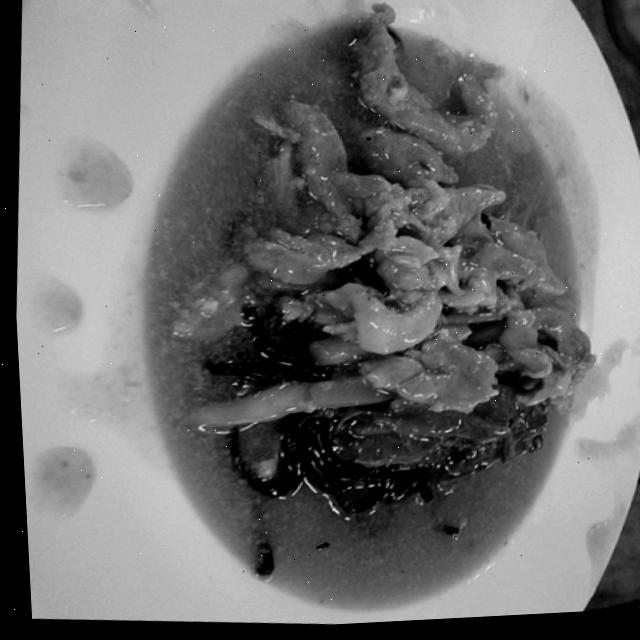面条主食: (73, 0, 640, 637)
